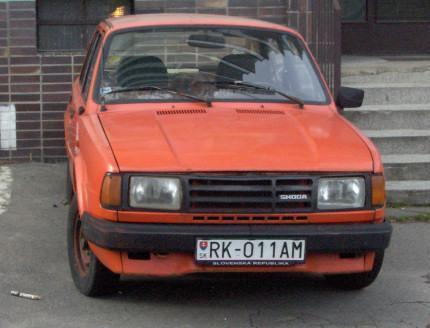placa de veiculo: (191, 232, 313, 269)
